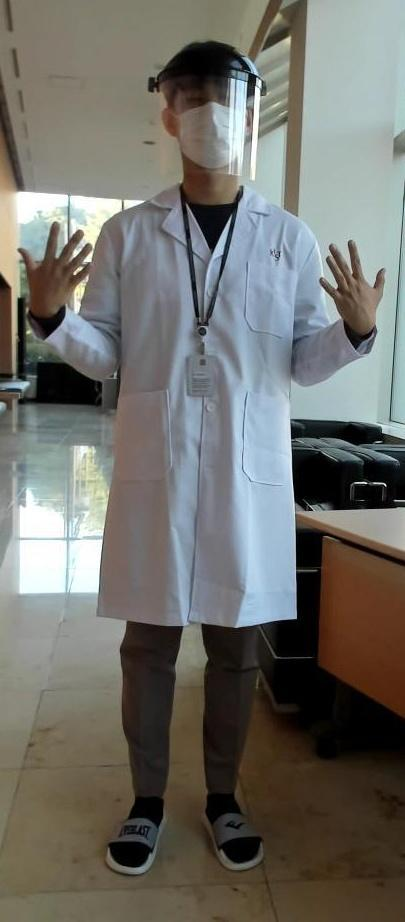lab_coat: (96, 224, 320, 611)
